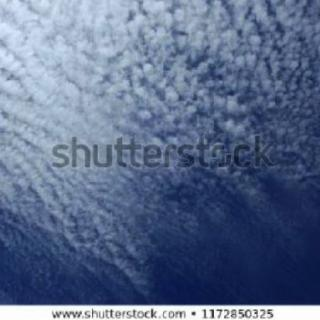Cirrocumulus: (0, 1, 320, 300)
